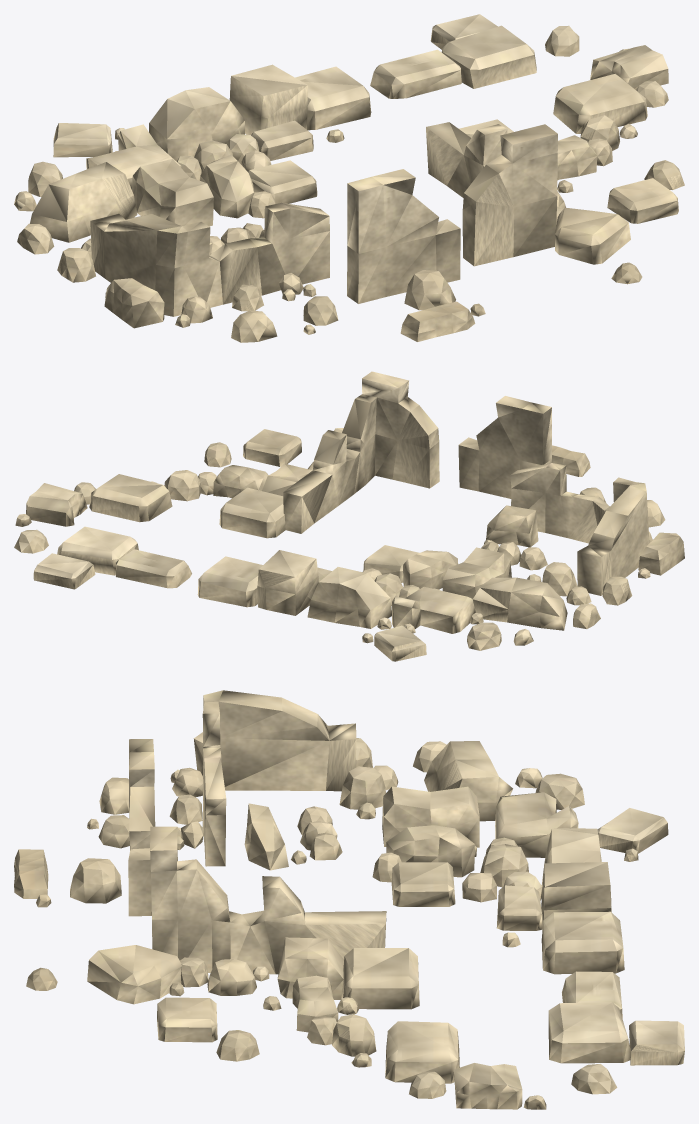
File: castle_d4.8.glb
3 renders of one model, top to bottom at view 1: azimuth 30°, elevation 25°; view 2: azimuth 150°, elevation 25°; view 3: azimuth 270°, elevation 25°, orthographic. The views are drawn at different scales.
Parts seen in each view (by area): view 1: castle_d4.8; view 2: castle_d4.8; view 3: castle_d4.8.
Part boxes in pixels (x1=…): castle_d4.8: x1=14, y1=14, x2=684, y2=342; castle_d4.8: x1=14, y1=371, x2=684, y2=661; castle_d4.8: x1=14, y1=690, x2=684, y2=1109.
Size of the model in its own units: 2.9 by 0.4921 by 2.37.
1 material, 1 textured.
